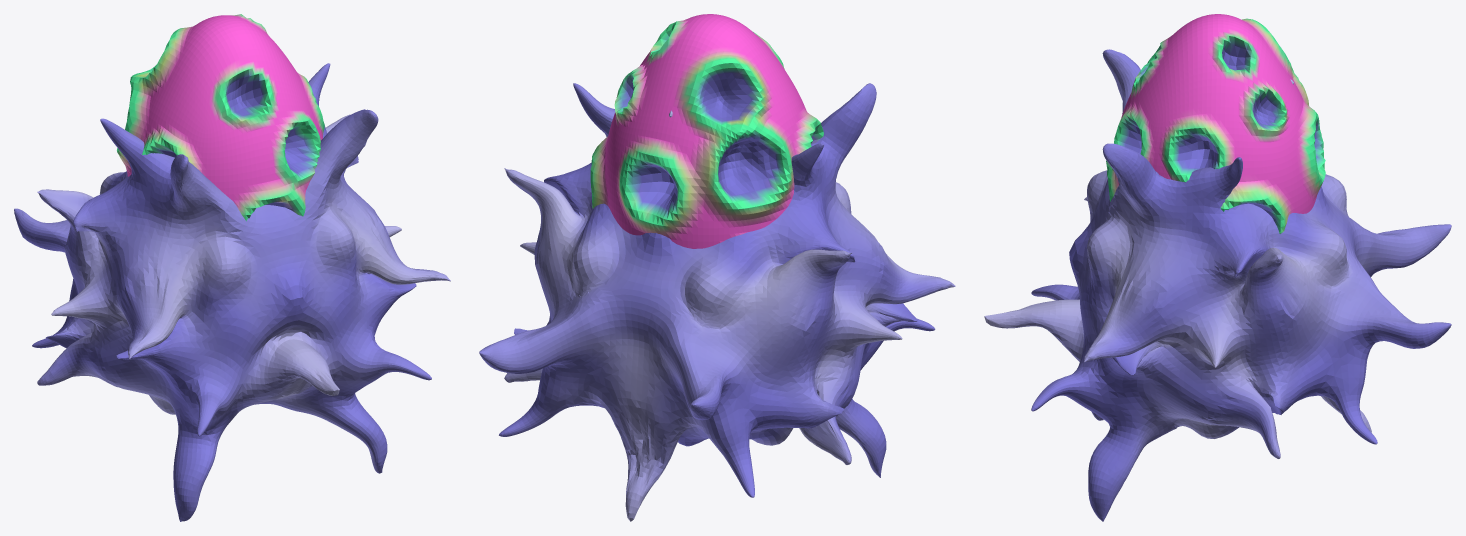
The model's file is StudioGamespiky.fbx.
The picture shows the model from 3 angles, left to right: view 1: azimuth 30°, elevation 25°; view 2: azimuth 150°, elevation 25°; view 3: azimuth 270°, elevation 25°; orthographic projection. The views are drawn at different scales.
Parts seen in each view (by area): view 1: Quad Sphere.004, Quad Sphere; view 2: Quad Sphere.004, Quad Sphere; view 3: Quad Sphere.004, Quad Sphere.
Boxes of the visible parts, x1=… form: Quad Sphere.004: x1=14, y1=63, x2=450, y2=521; Quad Sphere: x1=117, y1=14, x2=324, y2=221; Quad Sphere.004: x1=479, y1=83, x2=955, y2=521; Quad Sphere: x1=590, y1=14, x2=823, y2=248; Quad Sphere.004: x1=984, y1=49, x2=1451, y2=521; Quad Sphere: x1=1106, y1=14, x2=1325, y2=233.
Size of the model in its own units: 204 by 243 by 228.
